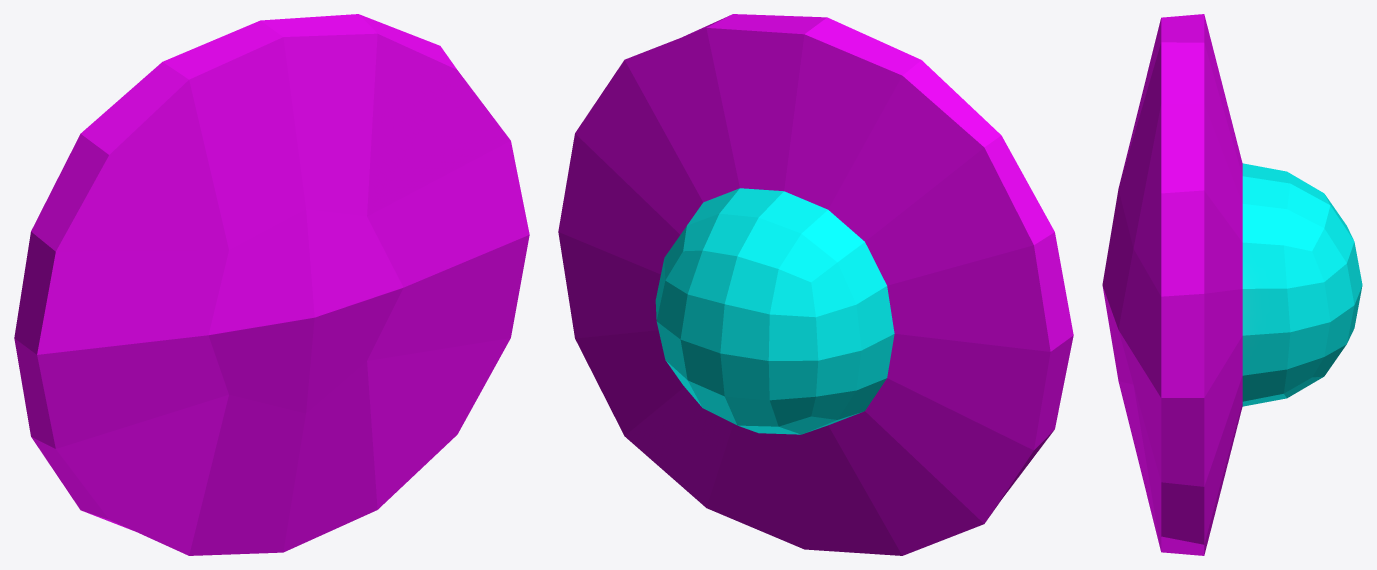
The model's file is ufo_model.fbx.
3 renders of one model, left to right at view 1: azimuth 30°, elevation 25°; view 2: azimuth 150°, elevation 25°; view 3: azimuth 270°, elevation 25°, orthographic. The views are drawn at different scales.
Parts seen in each view (by area): view 1: UFO; view 2: UFO; view 3: UFO.
Part boxes in pixels (box(x1,y1,x2,y2)): UFO: box(14, 14, 529, 555); UFO: box(558, 14, 1073, 555); UFO: box(1102, 14, 1362, 555).
Size of the model in its own units: 3.92 by 3.92 by 1.9.
